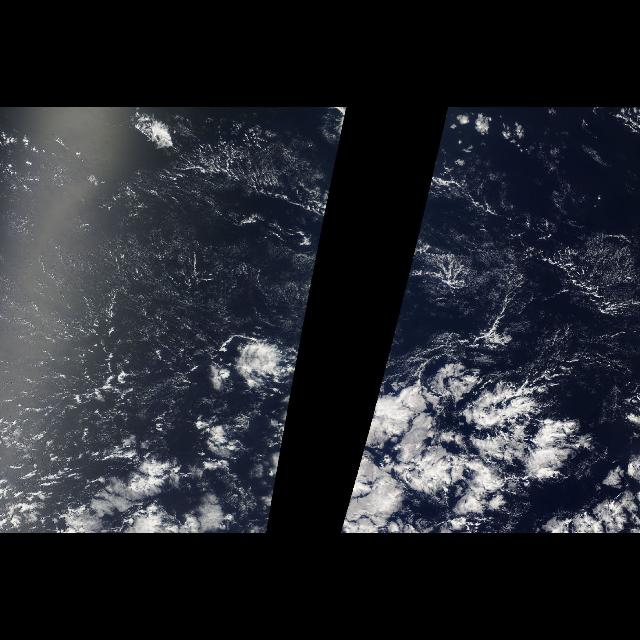Sugar: (1, 128, 322, 366)
